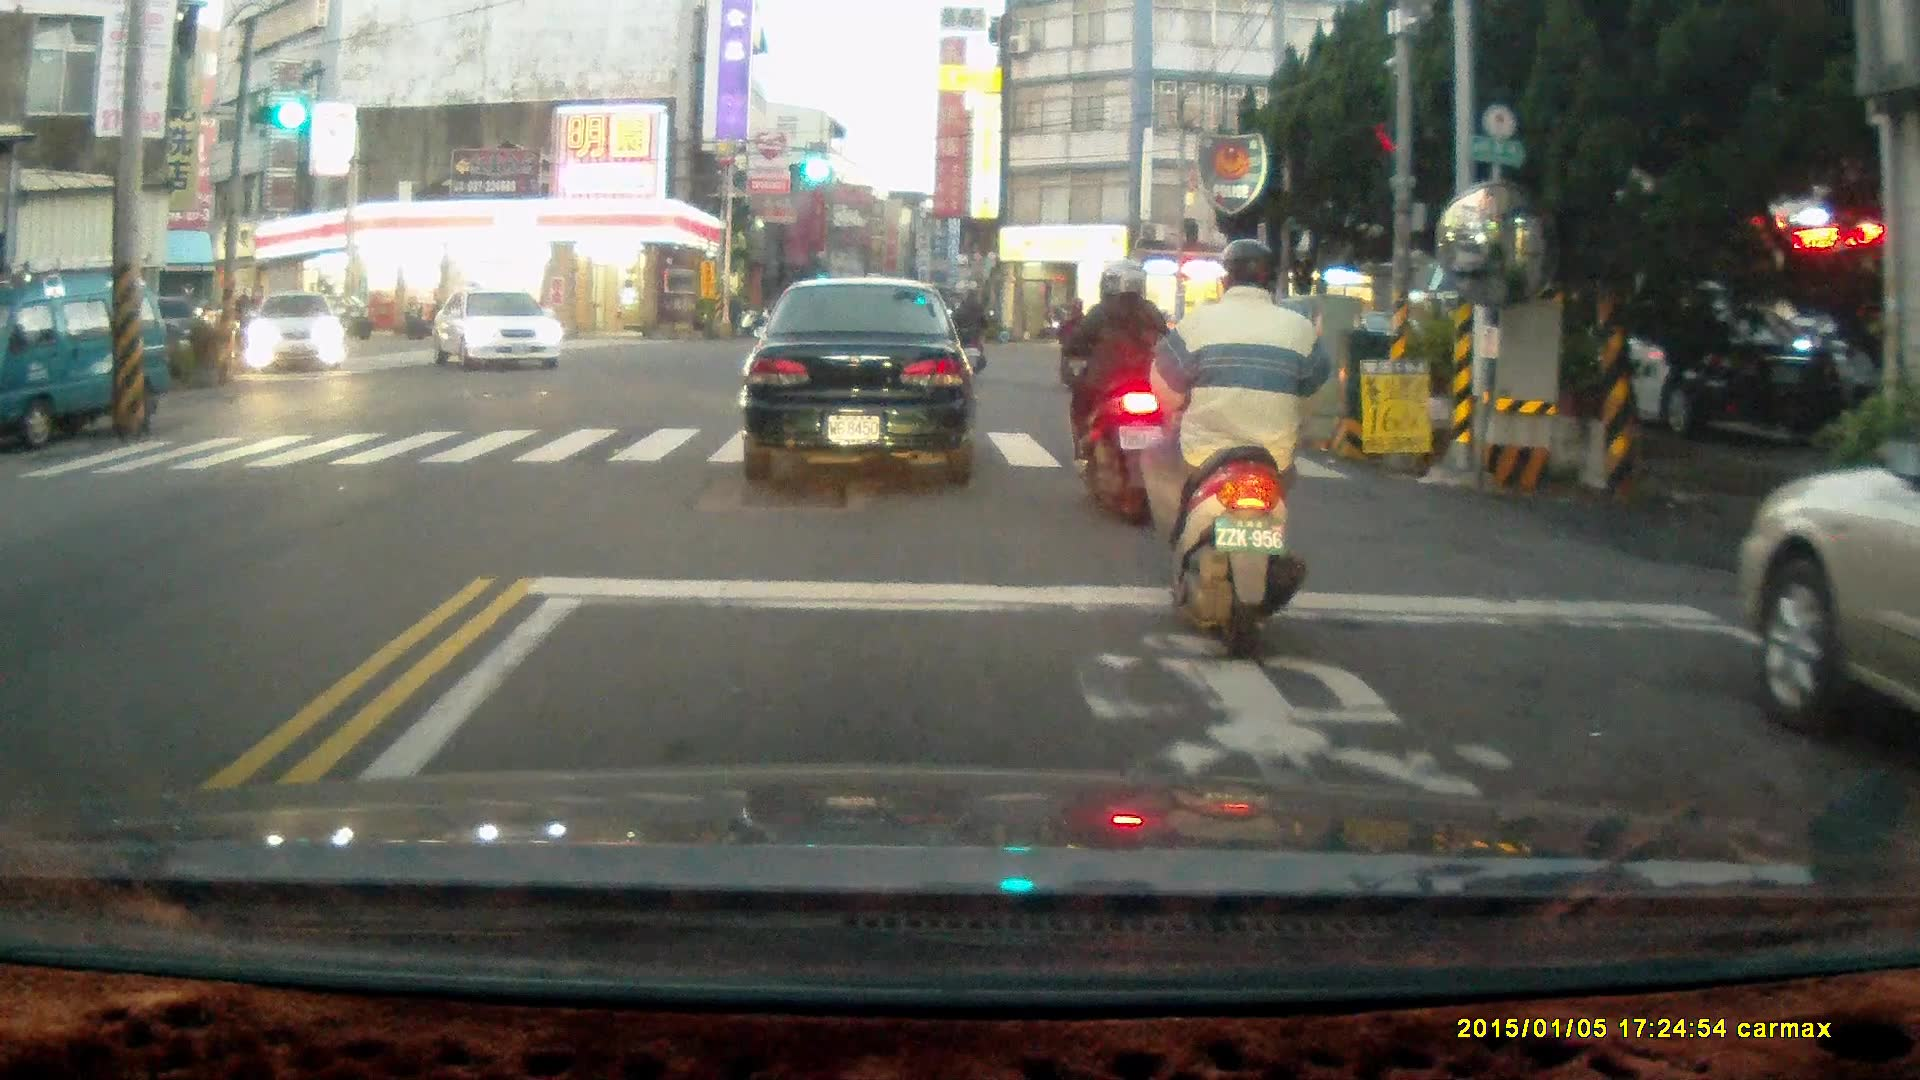rider: (1140, 234, 1338, 646), (1045, 254, 1181, 522), (944, 287, 994, 379), (1048, 295, 1093, 393)
vehicle: (1732, 415, 1920, 760), (739, 276, 977, 485), (1531, 278, 1843, 429), (1, 267, 176, 454), (430, 288, 566, 372), (241, 292, 351, 375)
